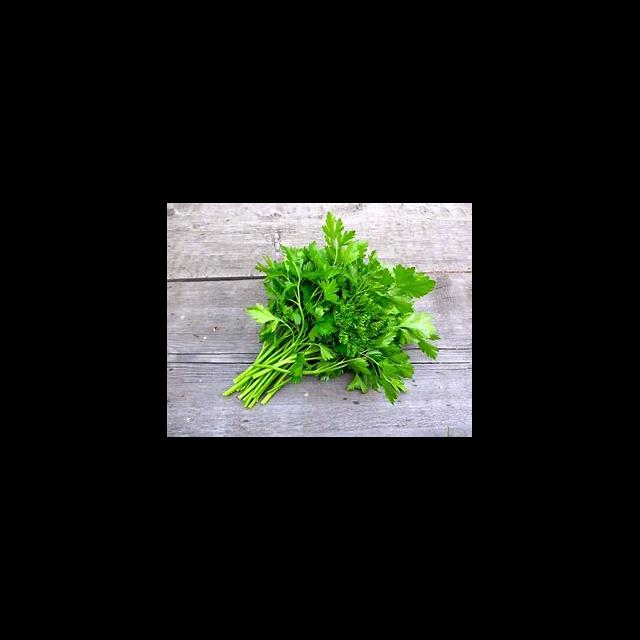cilantro: (222, 209, 443, 411)
